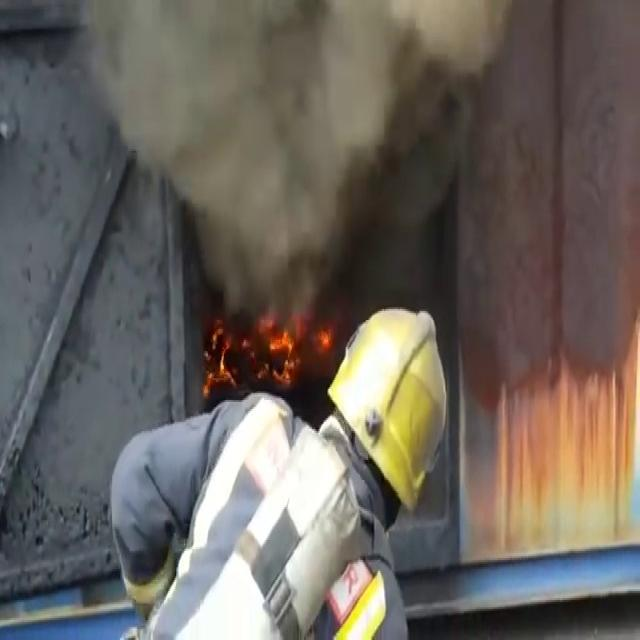Smoke: (90, 0, 478, 296)
